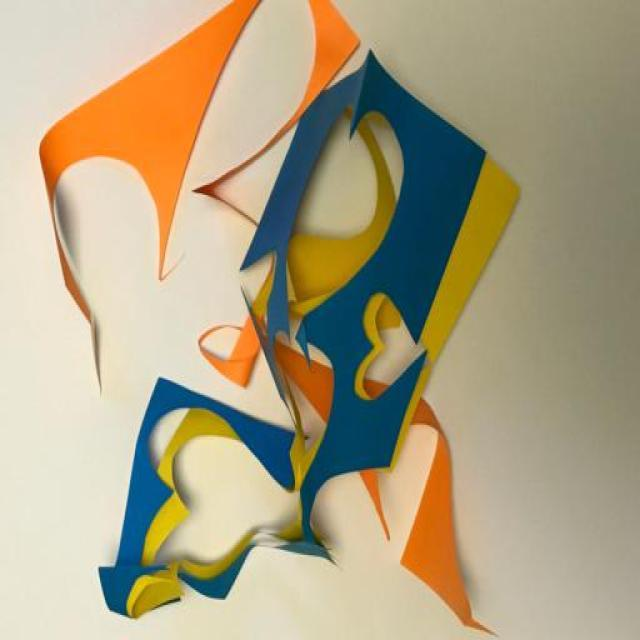paper: (36, 0, 521, 638)
